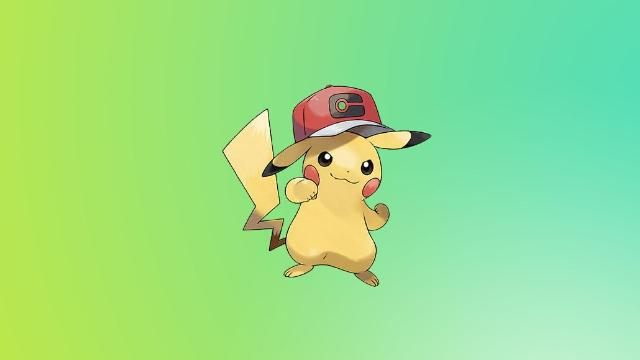pickachu: (219, 107, 429, 289)
